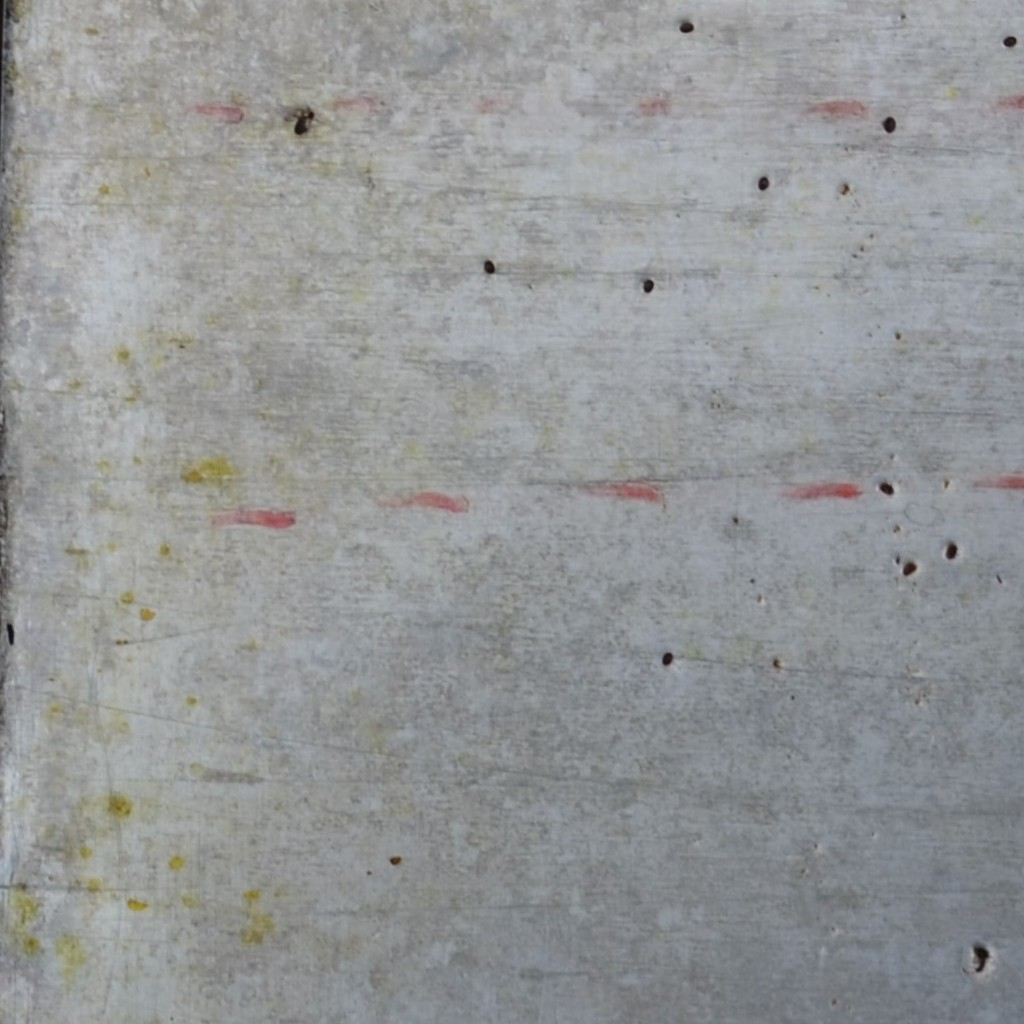varroa: (875, 477, 895, 499), (902, 560, 921, 580), (881, 112, 896, 136), (943, 538, 958, 561), (659, 649, 676, 669), (755, 174, 772, 193), (641, 274, 657, 294), (481, 258, 498, 276), (1000, 33, 1018, 49), (677, 20, 697, 34)
